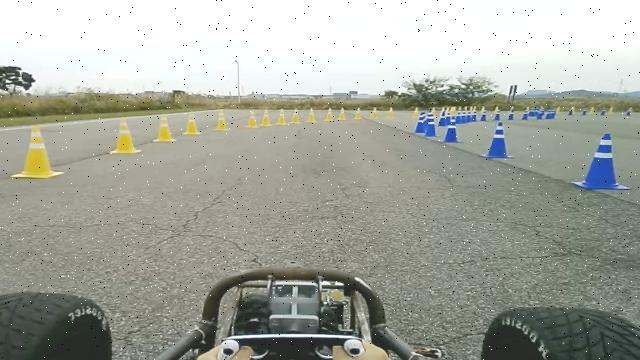blue cone: (572, 132, 632, 191), (480, 121, 515, 158), (441, 123, 463, 143), (414, 111, 428, 134), (424, 121, 439, 137)
yellow cone: (10, 125, 64, 179), (110, 117, 142, 154), (152, 114, 177, 142), (183, 112, 202, 135), (214, 109, 230, 131), (245, 110, 259, 128), (260, 108, 272, 127), (276, 108, 288, 125), (290, 108, 301, 124), (306, 108, 317, 123), (324, 108, 335, 121), (353, 106, 363, 120), (370, 106, 378, 119), (387, 106, 395, 118)
